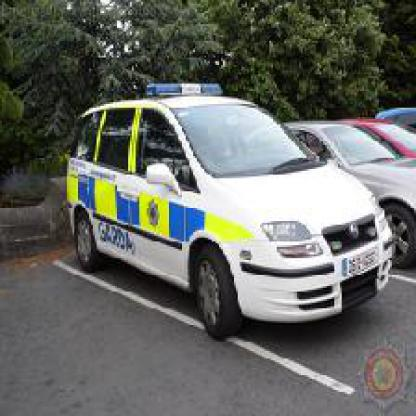emergency: (61, 82, 390, 342)
